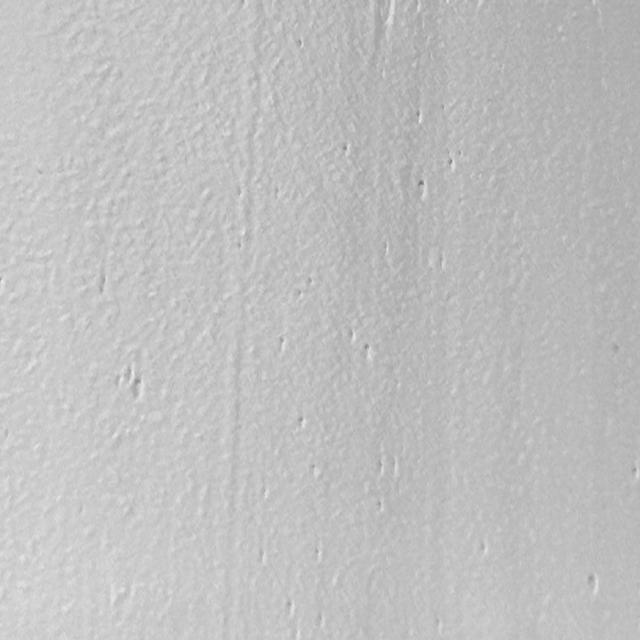pin holes: (375, 0, 397, 27), (130, 377, 150, 405), (583, 571, 603, 598), (374, 454, 396, 476), (414, 179, 432, 205), (428, 614, 448, 636), (606, 340, 626, 362), (360, 343, 378, 366), (293, 413, 311, 436), (474, 540, 492, 563), (280, 598, 297, 622), (274, 332, 289, 355), (374, 458, 388, 478), (256, 546, 270, 566), (313, 613, 327, 631), (312, 546, 324, 565), (293, 290, 307, 306), (307, 462, 320, 479), (412, 110, 424, 128), (628, 464, 639, 483), (374, 499, 387, 515), (304, 274, 317, 290), (340, 141, 352, 158), (294, 38, 306, 54)
